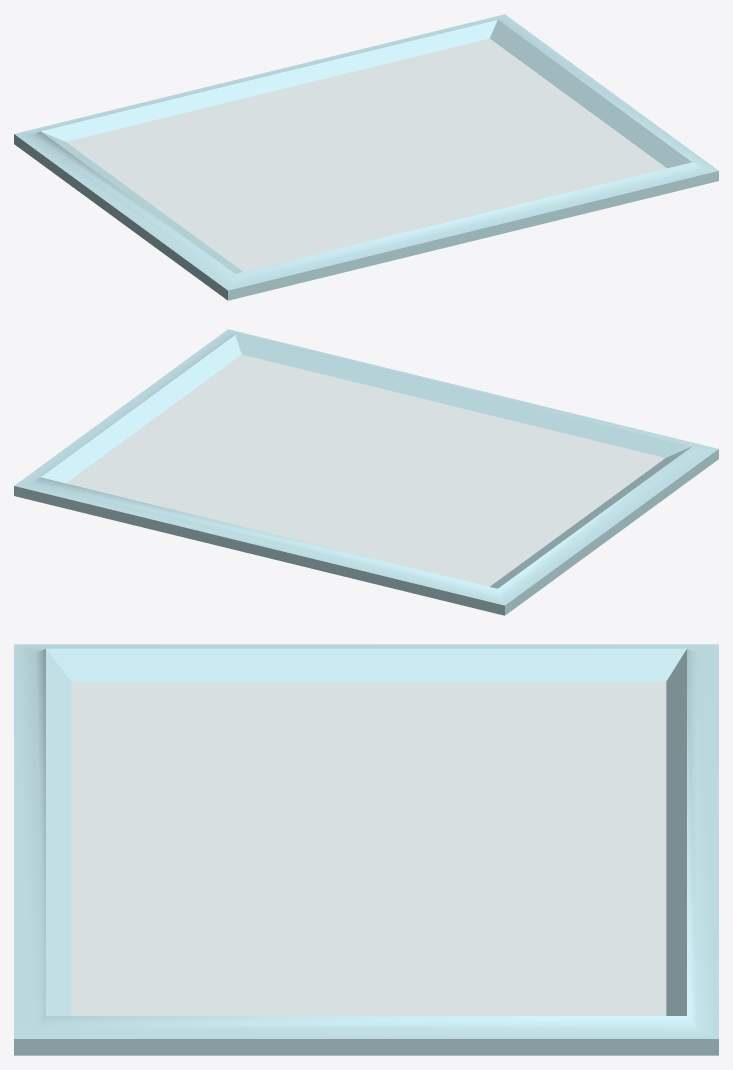
The model's file is mirror.fbx.
3 renders of one model, top to bottom at view 1: azimuth 30°, elevation 25°; view 2: azimuth 150°, elevation 25°; view 3: azimuth 270°, elevation 25°, orthographic. The views are drawn at different scales.
Parts seen in each view (by area): view 1: Box01; view 2: Box01; view 3: Box01.
Part boxes in pixels (box(x1,y1,x2,y2)): Box01: box(14, 14, 718, 300); Box01: box(14, 329, 718, 615); Box01: box(14, 644, 718, 1055).
Size of the model in its own units: 66.94 by 2.05 by 50.56.
